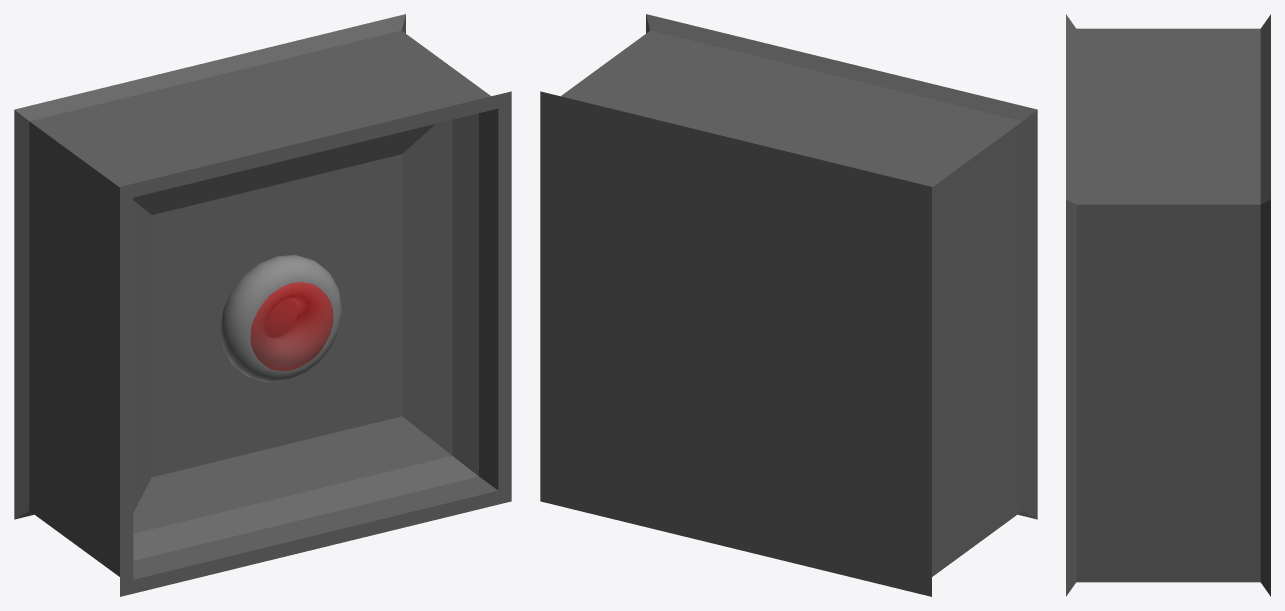
File: HalKinda.fbx
3 views of the same model, side by side, from view 1: azimuth 30°, elevation 25°; view 2: azimuth 150°, elevation 25°; view 3: azimuth 270°, elevation 25° (orthographic). The views are drawn at different scales.
Parts seen in each view (by area): view 1: pCube1, pTorus1, pSphere1; view 2: pCube1; view 3: pCube1.
Boxes of the visible parts, <box> form: pCube1: <box>14,14,511,596</box>; pTorus1: <box>220,255,341,382</box>; pSphere1: <box>250,282,333,371</box>; pCube1: <box>540,14,1037,596</box>; pCube1: <box>1066,14,1270,596</box>.
Bounding box in the file's own units: 7.68 × 7.68 × 3.59.
